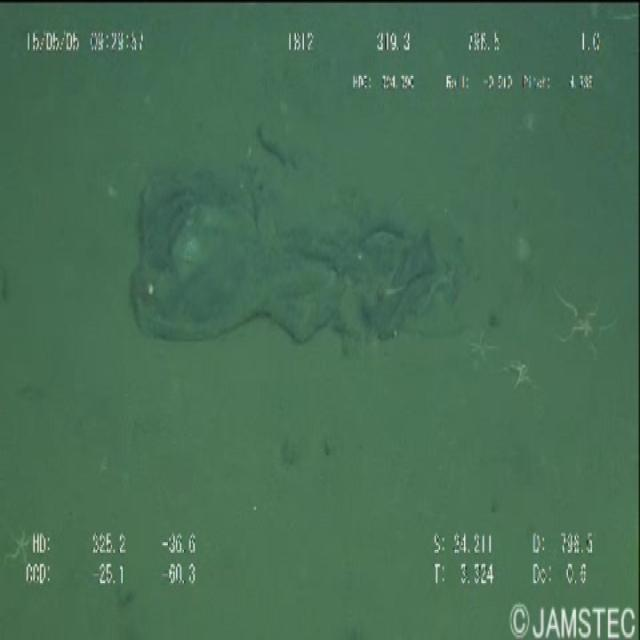Rope: (128, 138, 448, 362)
